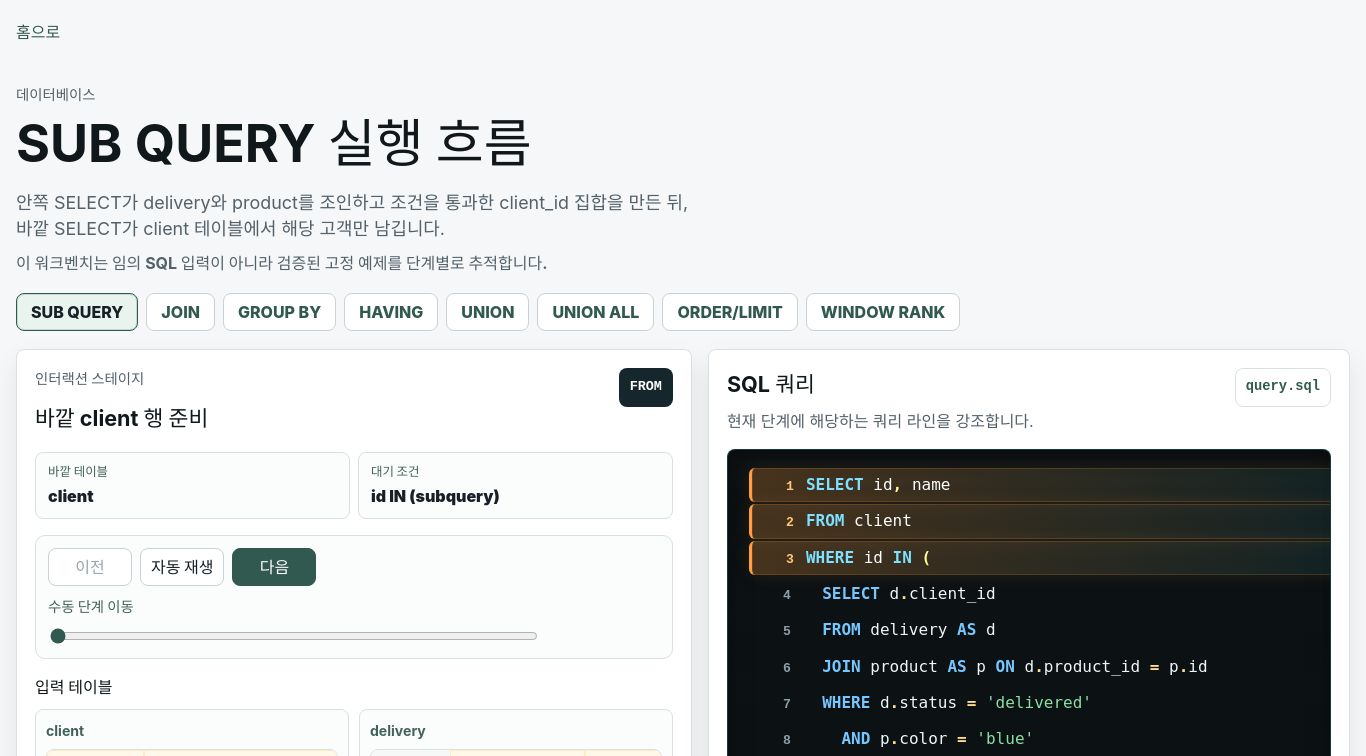
it: DatabasePage › shows SUB QUERY final output after stepping through the operation
The width and height of the screenshot is (1366, 756).
Click the button with aria-label "SQL 다음 단계" at (274, 567), box [232,548,316,586]
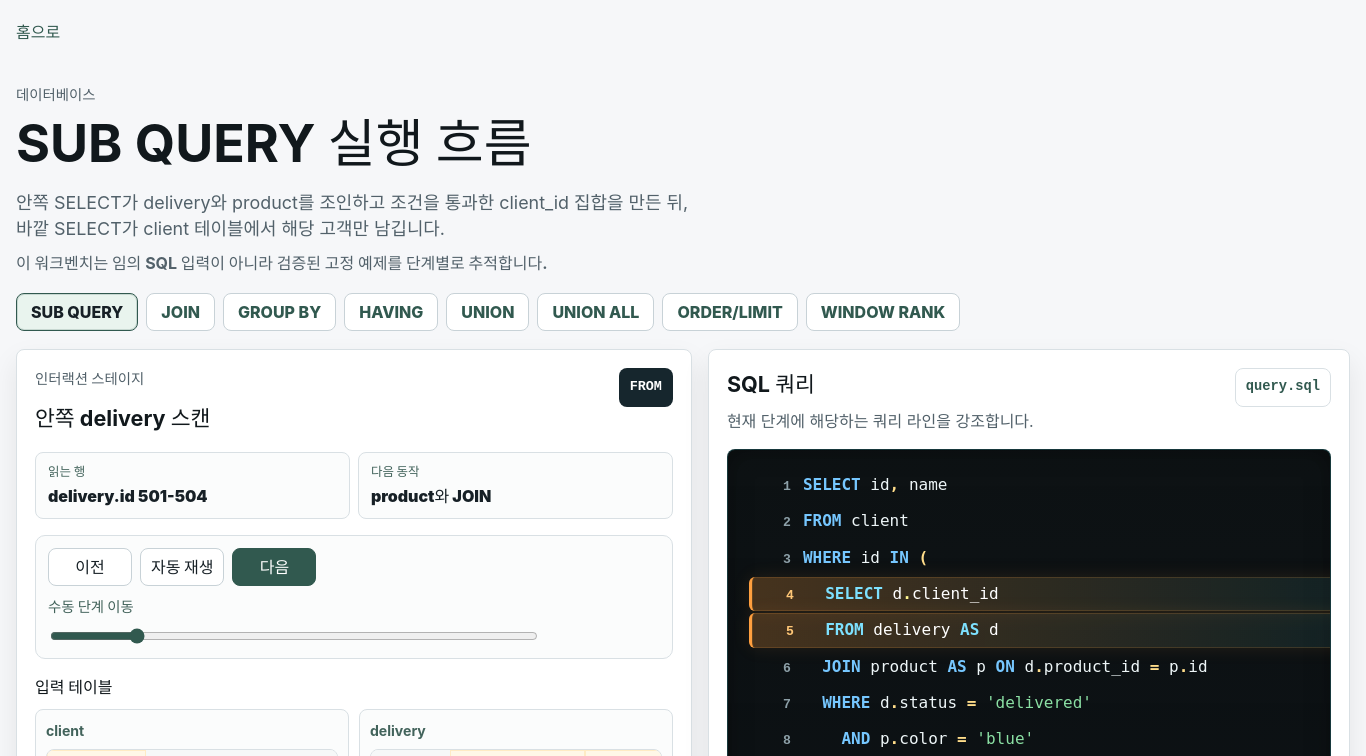
Click the button with aria-label "SQL 다음 단계" at (274, 567), box [232,548,316,586]
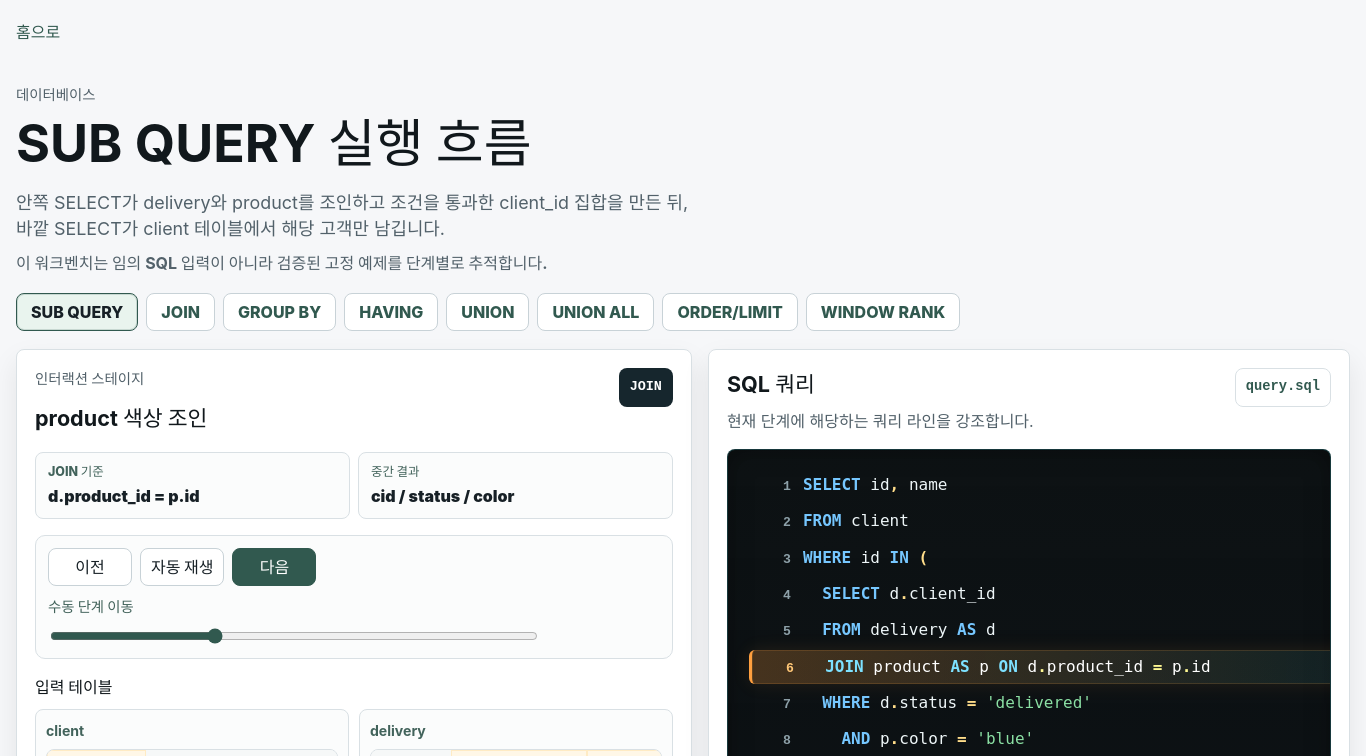
Click the button with aria-label "SQL 다음 단계" at (274, 567), box [232,548,316,586]
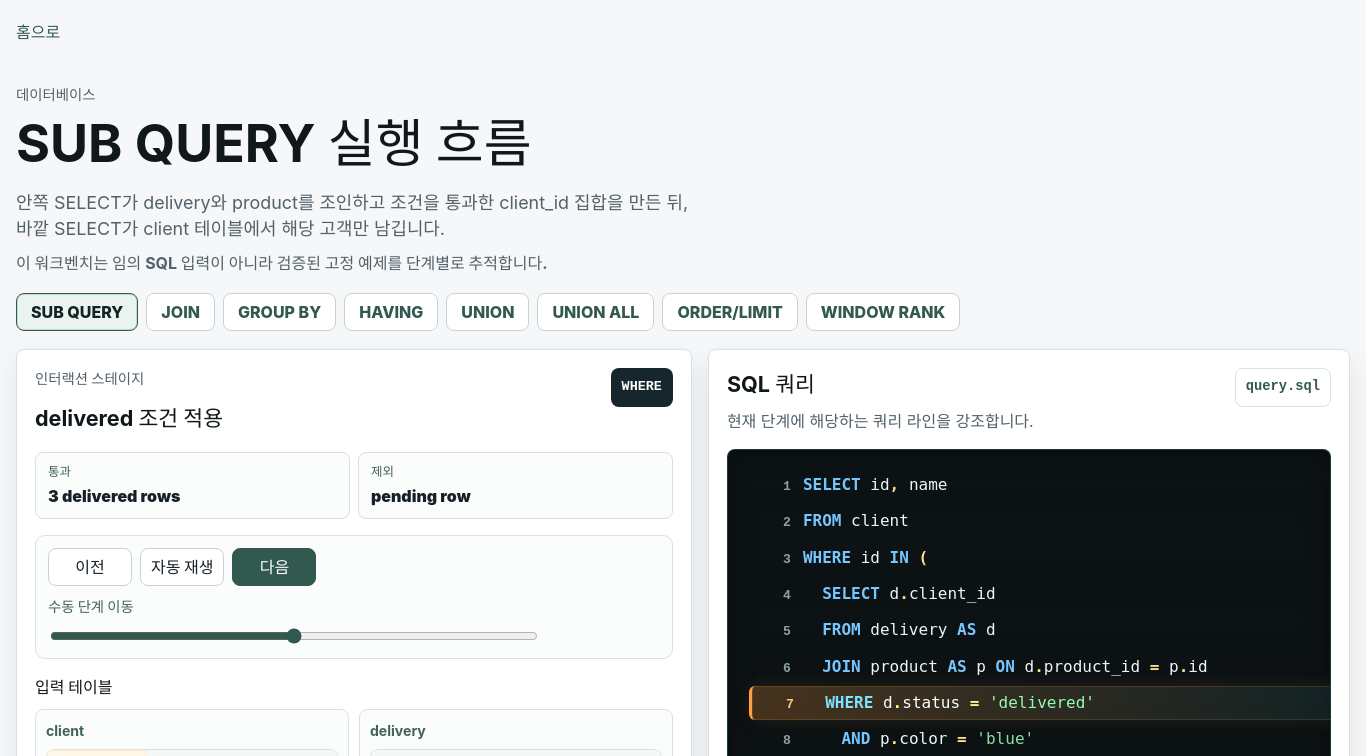
Click the button with aria-label "SQL 다음 단계" at (274, 567), box [232,548,316,586]
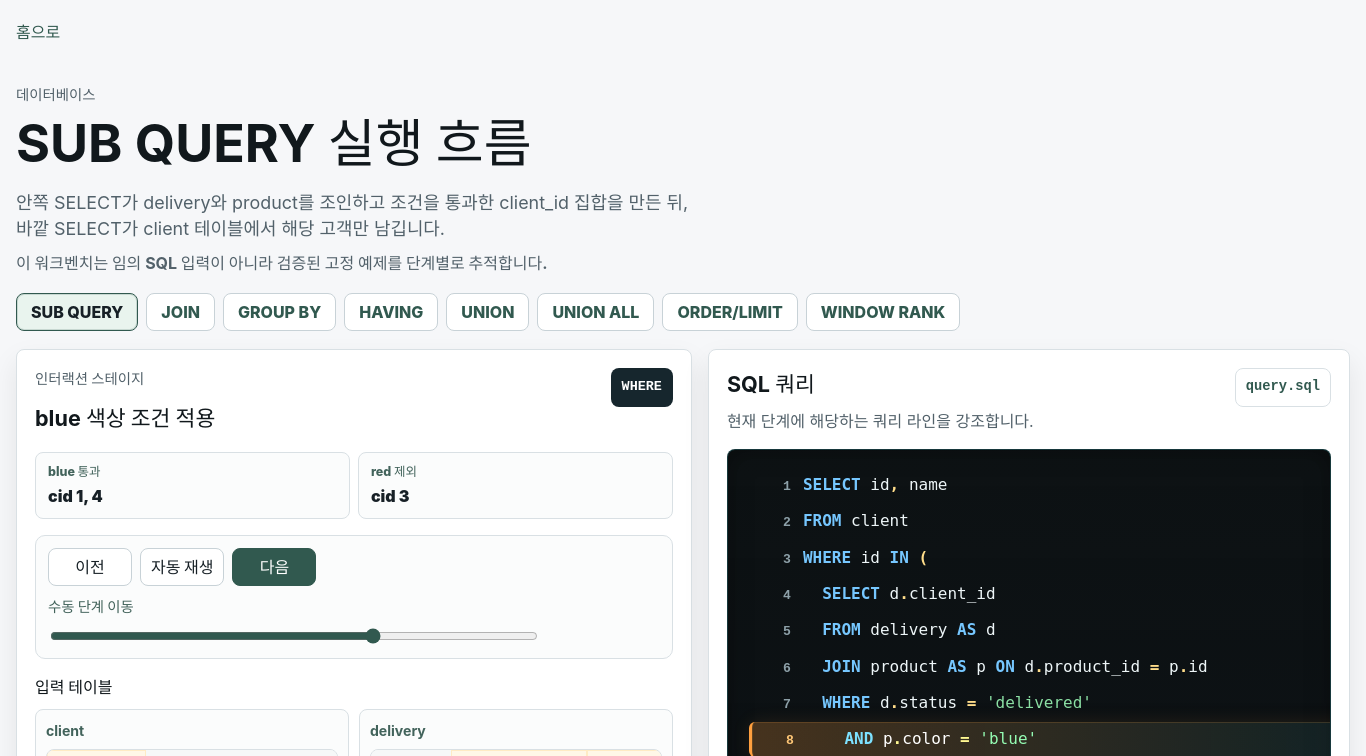
Click the button with aria-label "SQL 다음 단계" at (274, 567), box [232,548,316,586]
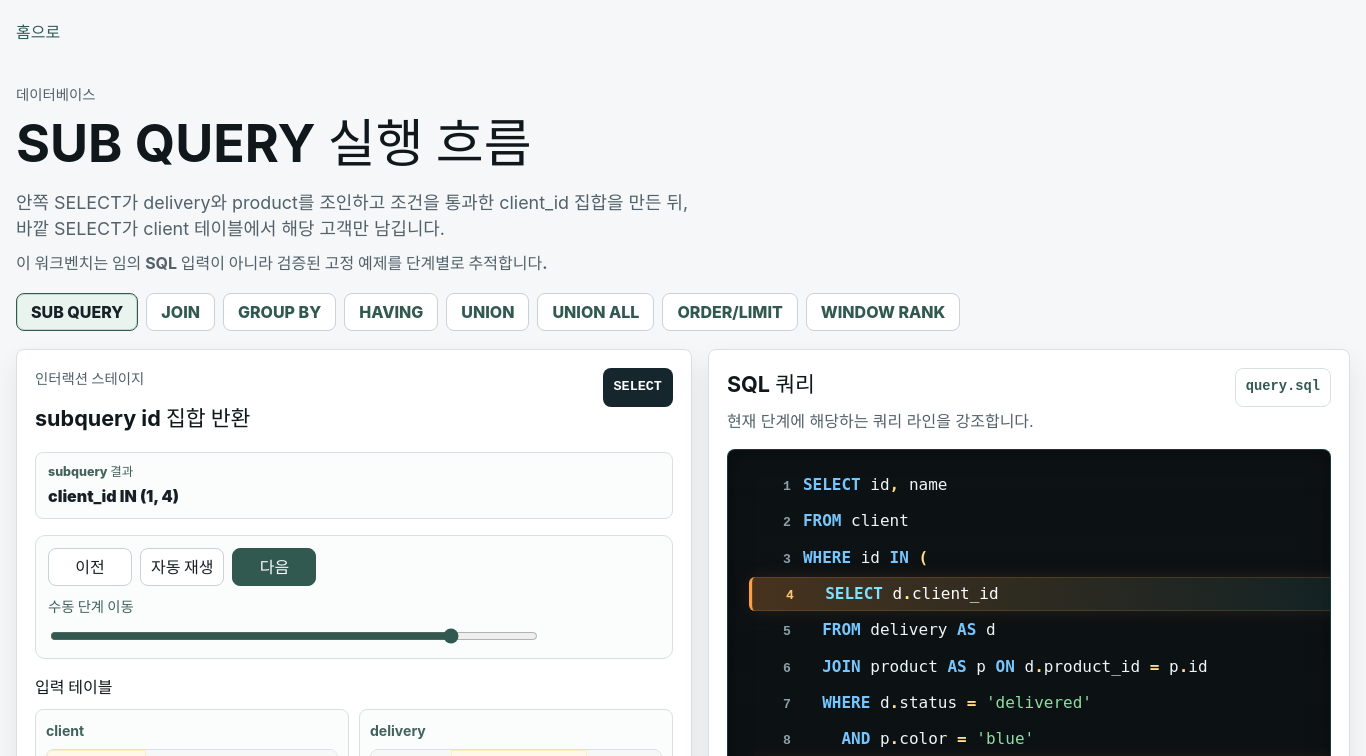
Click the button with aria-label "SQL 다음 단계" at (274, 567), box [232,548,316,586]
(page scrolled)
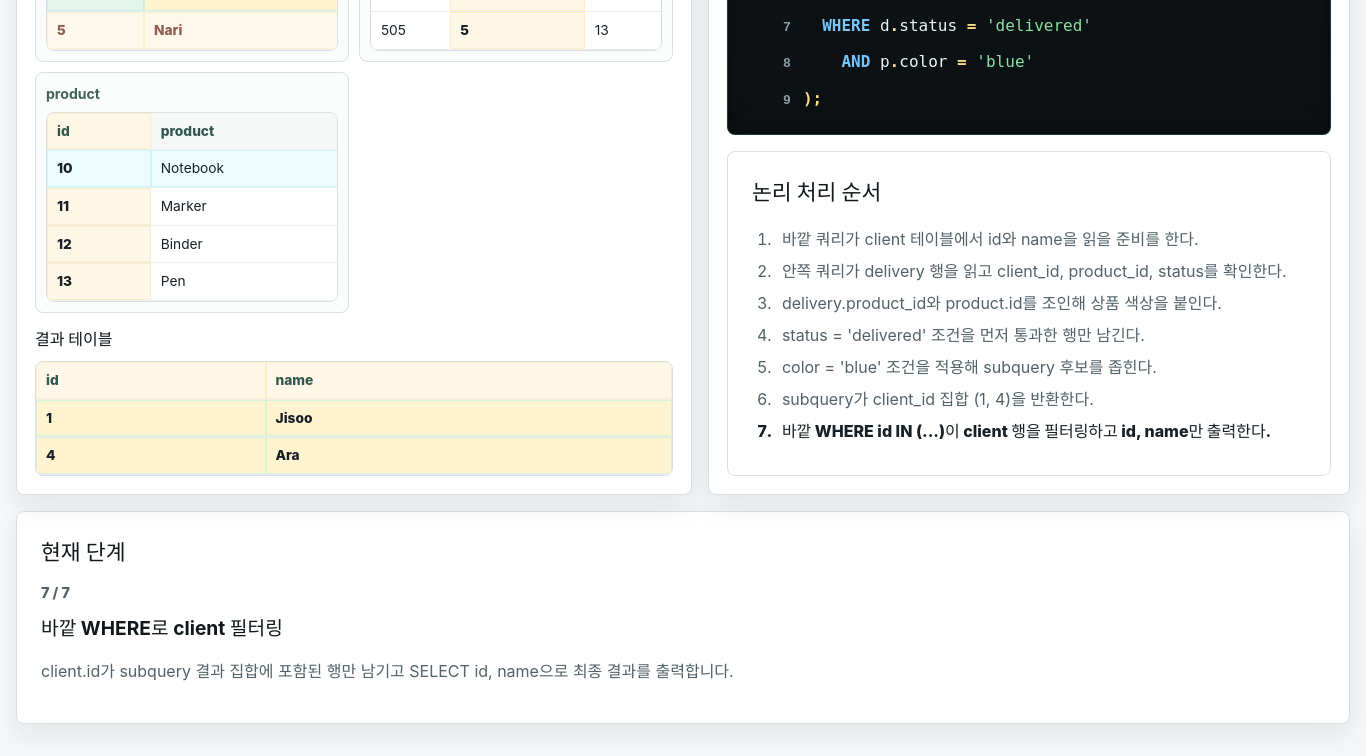
Now the cell "1" below "결과 테이블" is shown, box [36,399,266,437]
Now the cell "4" below "결과 테이블" is shown, box [36,437,266,474]
Now the cell "Jisoo" is shown, box [266,399,672,437]
